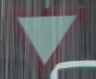Give way: (4, 4, 91, 67)
